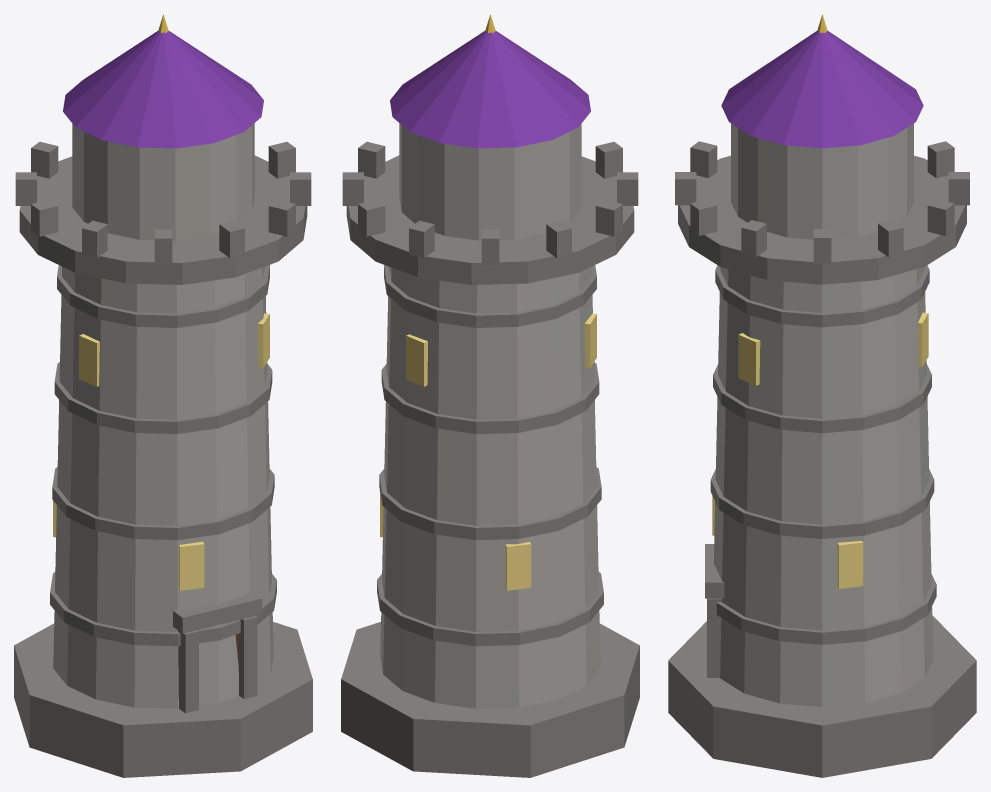
File: mage_tower.glb
The picture shows the model from 3 angles, left to right: view 1: azimuth 30°, elevation 25°; view 2: azimuth 150°, elevation 25°; view 3: azimuth 270°, elevation 25°; orthographic projection.
Parts seen in each view (by area): view 1: mage_tower-col, mage_tower_detail; view 2: mage_tower-col, mage_tower_detail; view 3: mage_tower-col, mage_tower_detail.
Boxes of the visible parts, box(x1,y1,x2,y2) form: mage_tower-col: box(14, 31, 312, 777); mage_tower_detail: box(15, 14, 311, 713); mage_tower-col: box(341, 31, 639, 777); mage_tower_detail: box(342, 14, 638, 646); mage_tower-col: box(668, 31, 976, 777); mage_tower_detail: box(675, 14, 969, 677).
Size of the model in its own units: 3.2 by 8 by 3.2.
